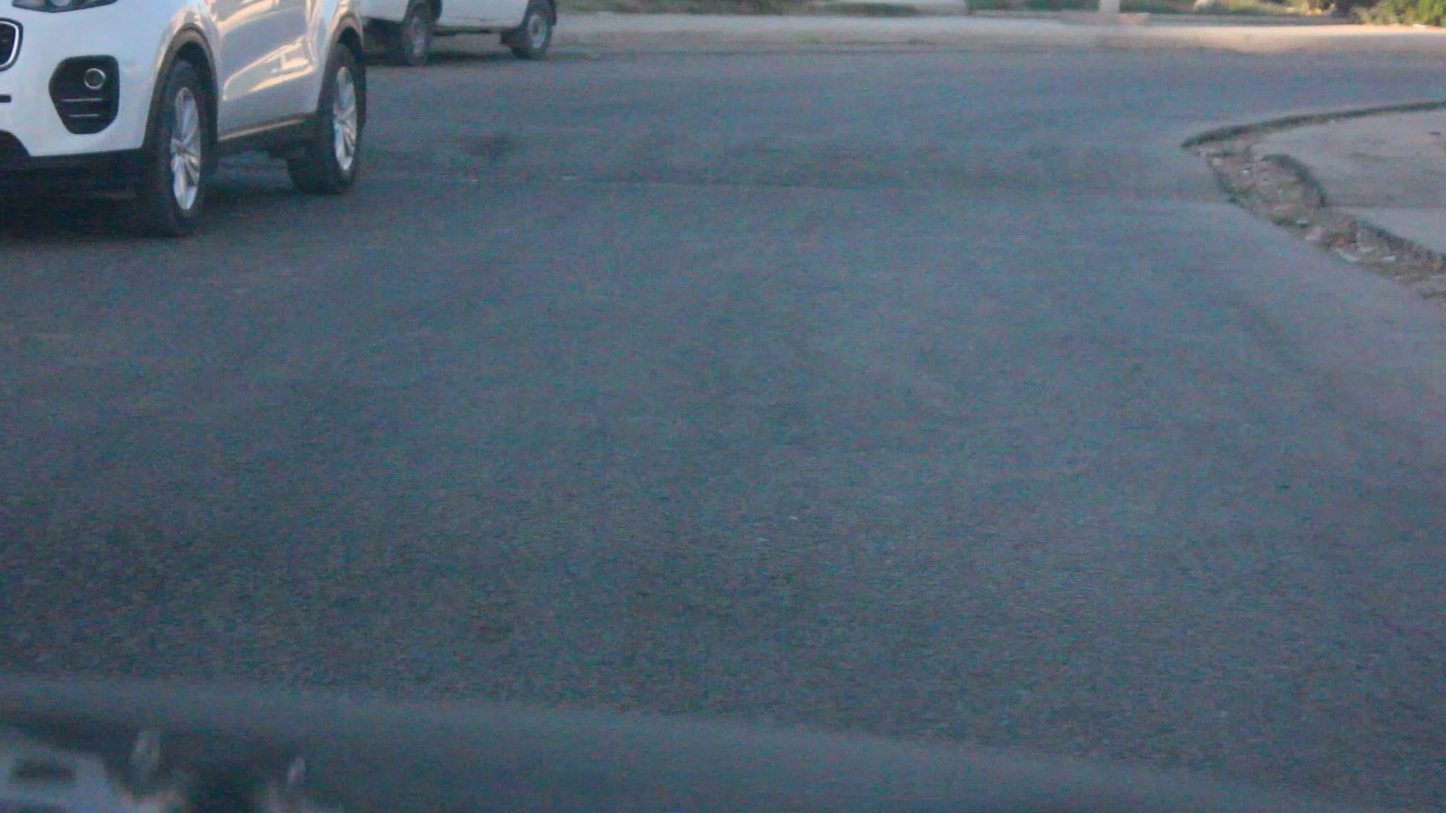Bump: (371, 113, 1222, 201)
